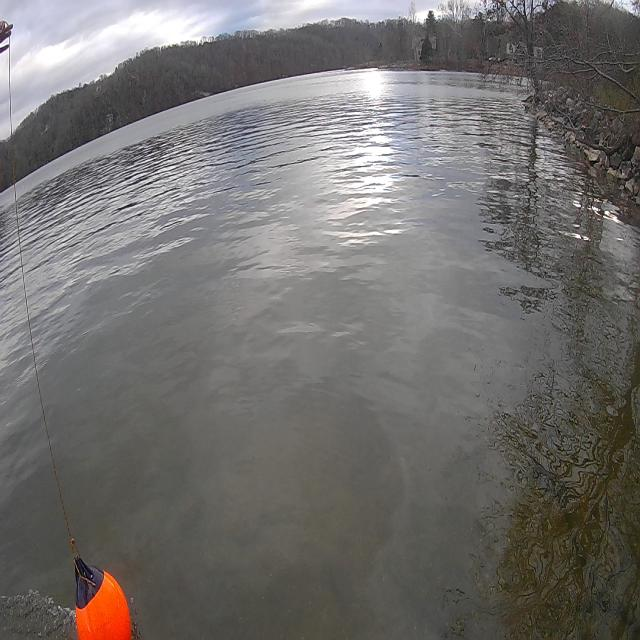Buoy: (66, 547, 134, 640)
